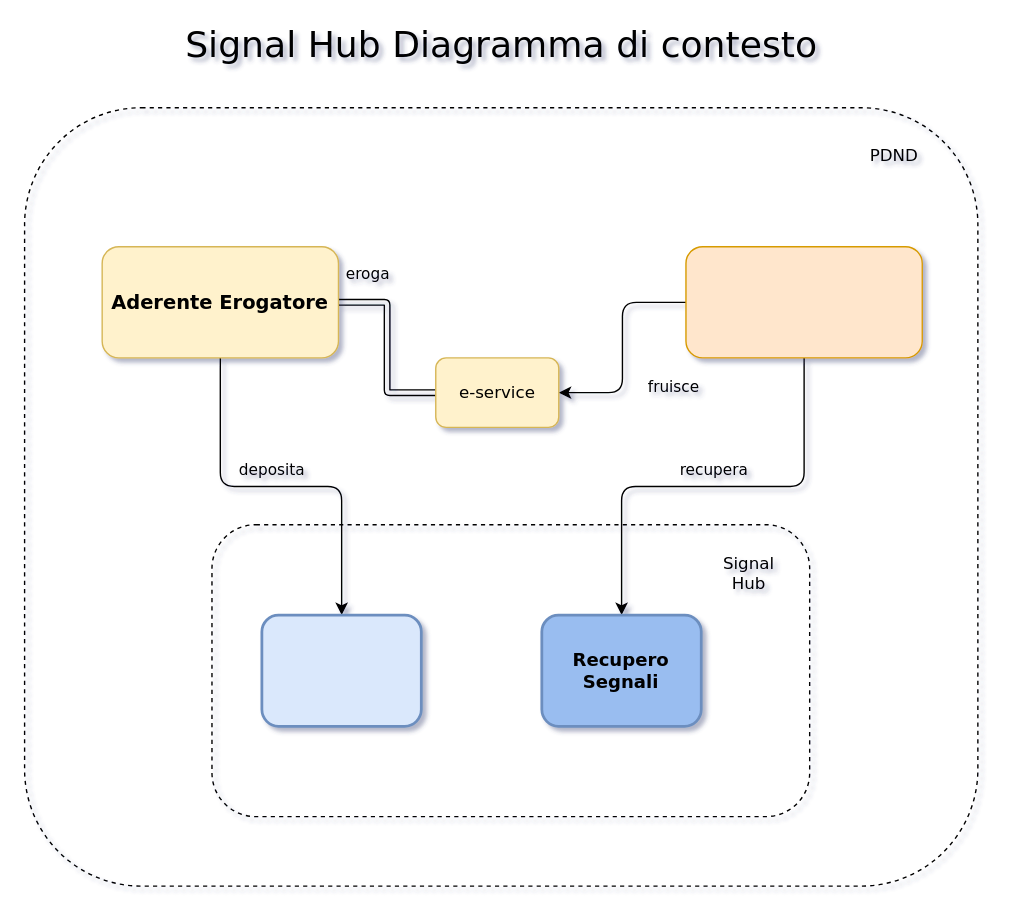
Some shapes in this 1011 by 919 pixel diagram are drawn without their labels. The box of each missing label's shape, as (x1, y1, x2, y2) in pixels:
Aderente Fruitore: (685, 245, 922, 358)
Deposito Segnali: (260, 613, 422, 727)
